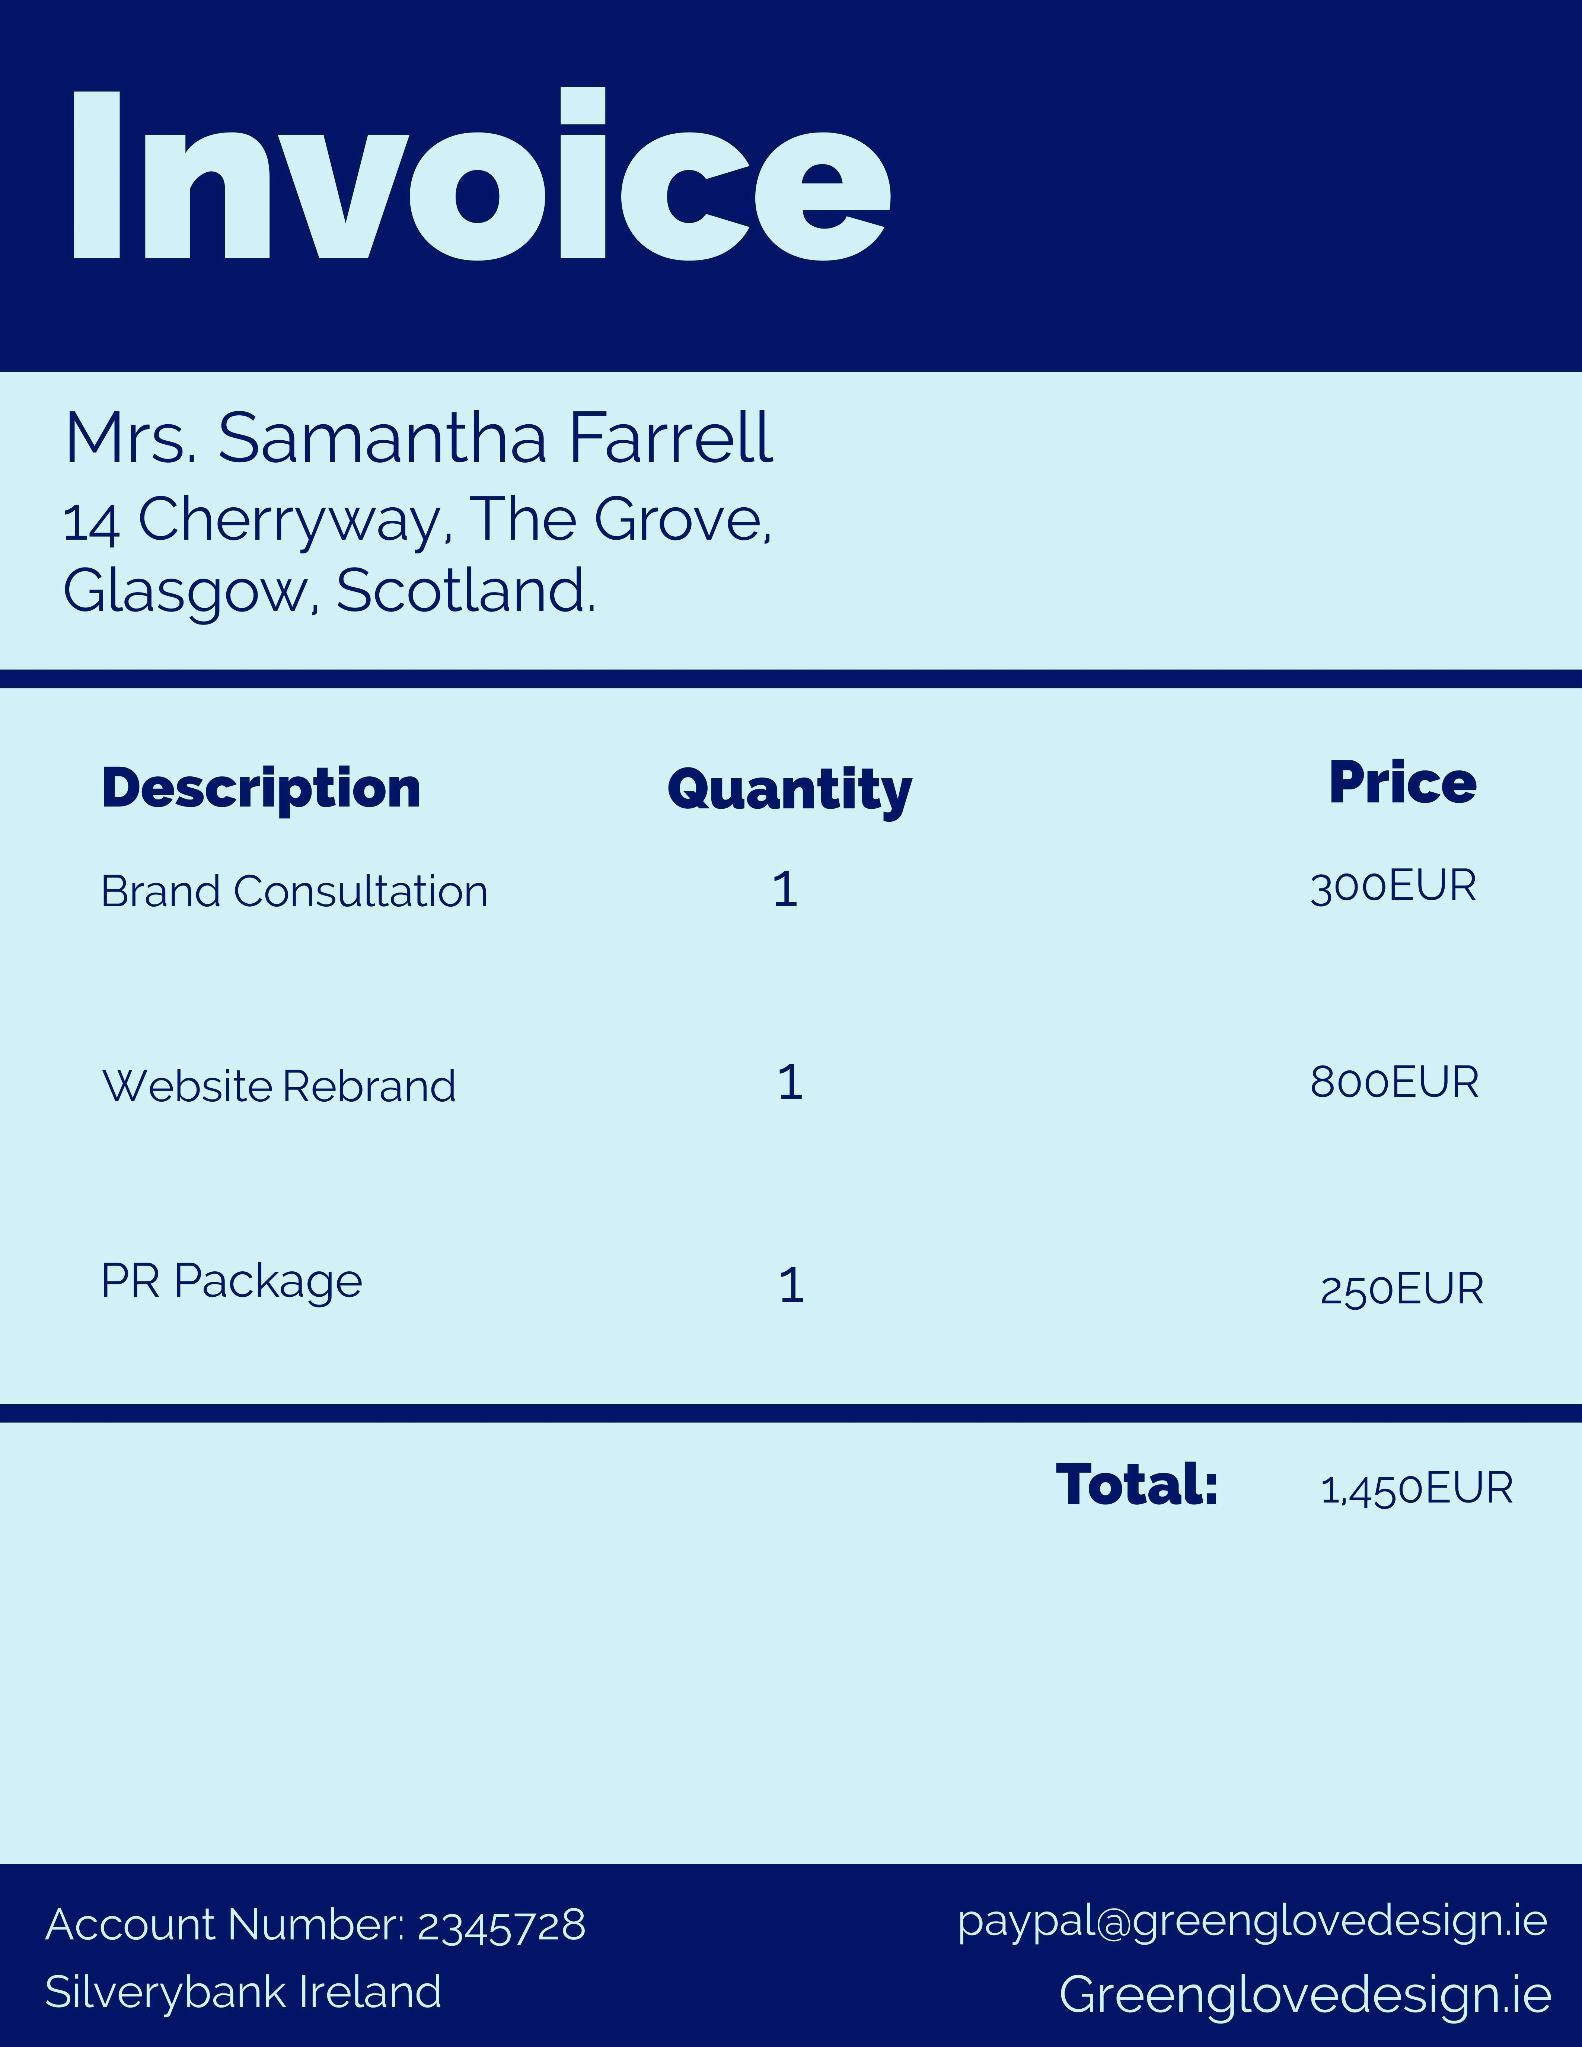ROI: (21, 698, 1546, 1377), (54, 61, 928, 327), (54, 389, 816, 650), (944, 1874, 1573, 2034), (31, 1878, 628, 2026), (1018, 1443, 1560, 1558)
